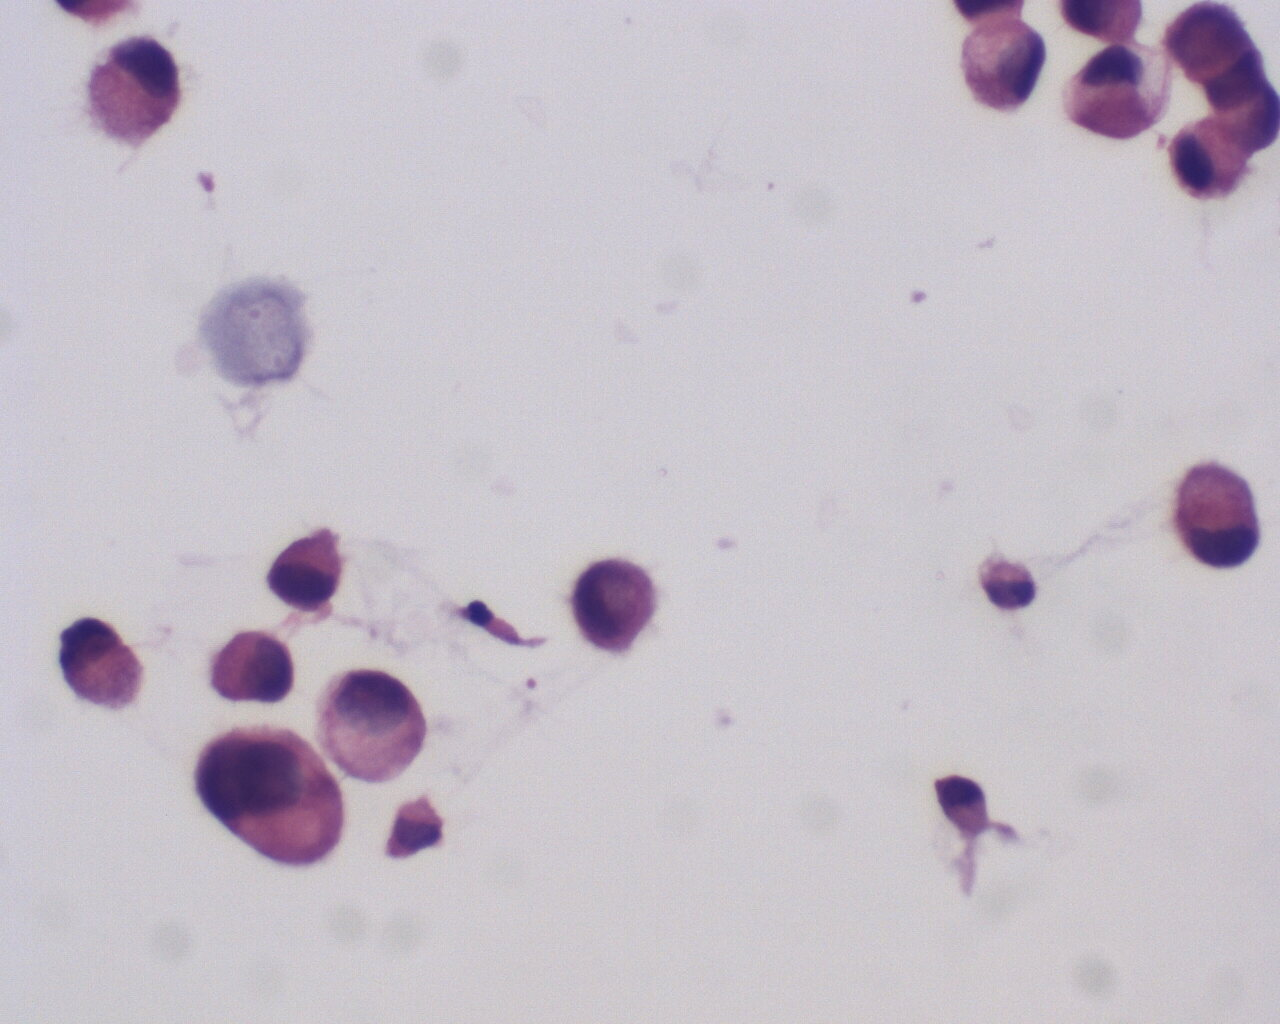ab: (189, 724, 344, 872), (571, 557, 665, 659), (207, 626, 300, 709), (1165, 1, 1258, 78)
meso: (316, 655, 430, 784), (83, 36, 194, 148), (1168, 113, 1260, 206)
